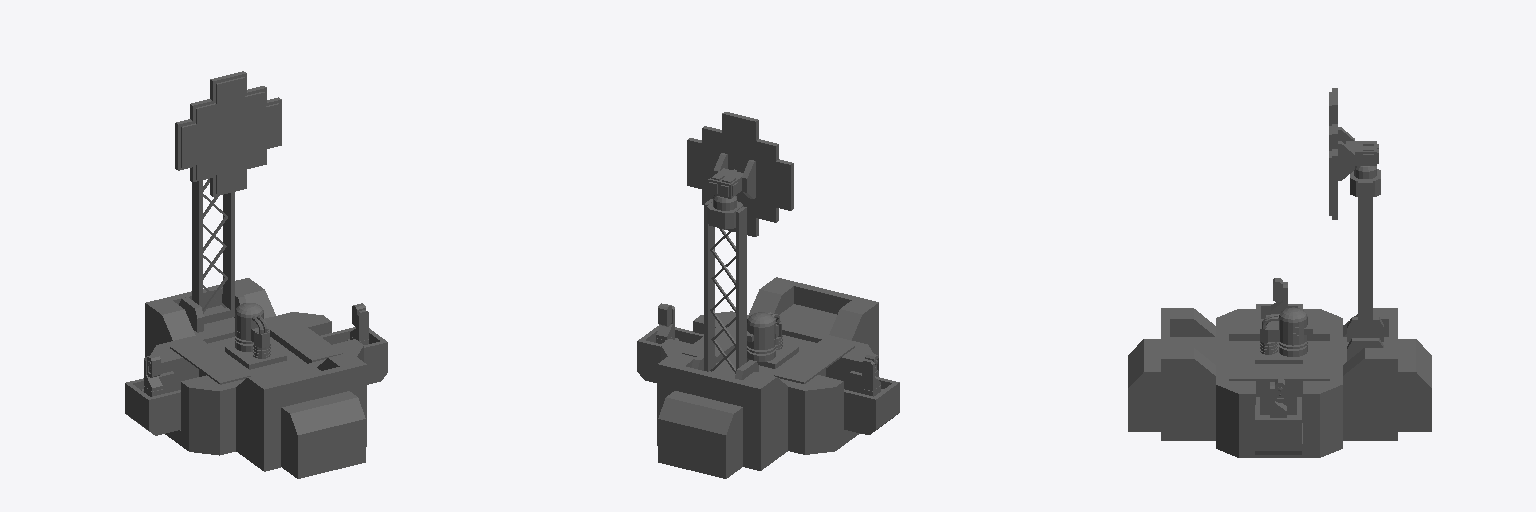
Rendered from Ewar.obj.
3 views of the same model, side by side, from view 1: azimuth 30°, elevation 25°; view 2: azimuth 150°, elevation 25°; view 3: azimuth 270°, elevation 25° (orthographic).
Parts seen in each view (by area): view 1: base, dish, extend1, bapextender, ecm, tagmount_2, door2, door1, tagmount_1; view 2: base, dish, extend2, bapextender, ecm, tagmount_2, door2, tagmount_1, bapstand, bapturret, door1; view 3: base, ecm, extend2, extend1, bapextender, tagmount_1, dish, door1, door2, bapstand, bapturret.
Part boxes in pixels (bbox=[...]): base: bbox=[145, 278, 366, 471]; dish: bbox=[175, 71, 281, 196]; extend1: bbox=[281, 391, 365, 478]; bapextender: bbox=[192, 179, 234, 323]; ecm: bbox=[208, 303, 306, 375]; tagmount_2: bbox=[125, 371, 180, 435]; door2: bbox=[170, 339, 250, 384]; door1: bbox=[266, 316, 342, 361]; tagmount_1: bbox=[320, 327, 387, 384]; base: bbox=[657, 277, 878, 470]; dish: bbox=[687, 112, 793, 236]; extend2: bbox=[658, 391, 742, 478]; bapextender: bbox=[704, 199, 746, 377]; ecm: bbox=[718, 312, 816, 375]; tagmount_2: bbox=[844, 371, 899, 434]; door2: bbox=[774, 338, 854, 383]; tagmount_1: bbox=[637, 325, 703, 382]; bapstand: bbox=[707, 195, 743, 229]; bapturret: bbox=[708, 168, 742, 198]; door1: bbox=[682, 316, 735, 358]; base: bbox=[1161, 308, 1397, 457]; ecm: bbox=[1229, 307, 1329, 363]; extend2: bbox=[1398, 339, 1431, 431]; extend1: bbox=[1128, 339, 1160, 431]; bapextender: bbox=[1358, 181, 1372, 337]; tagmount_1: bbox=[1255, 397, 1301, 454]; dish: bbox=[1329, 88, 1354, 219]; door1: bbox=[1229, 364, 1329, 380]; door2: bbox=[1229, 319, 1329, 335]; bapstand: bbox=[1350, 166, 1380, 196]; bapturret: bbox=[1346, 141, 1378, 165].
Bounding box in the file's own units: 78.04 × 99.45 × 85.67.